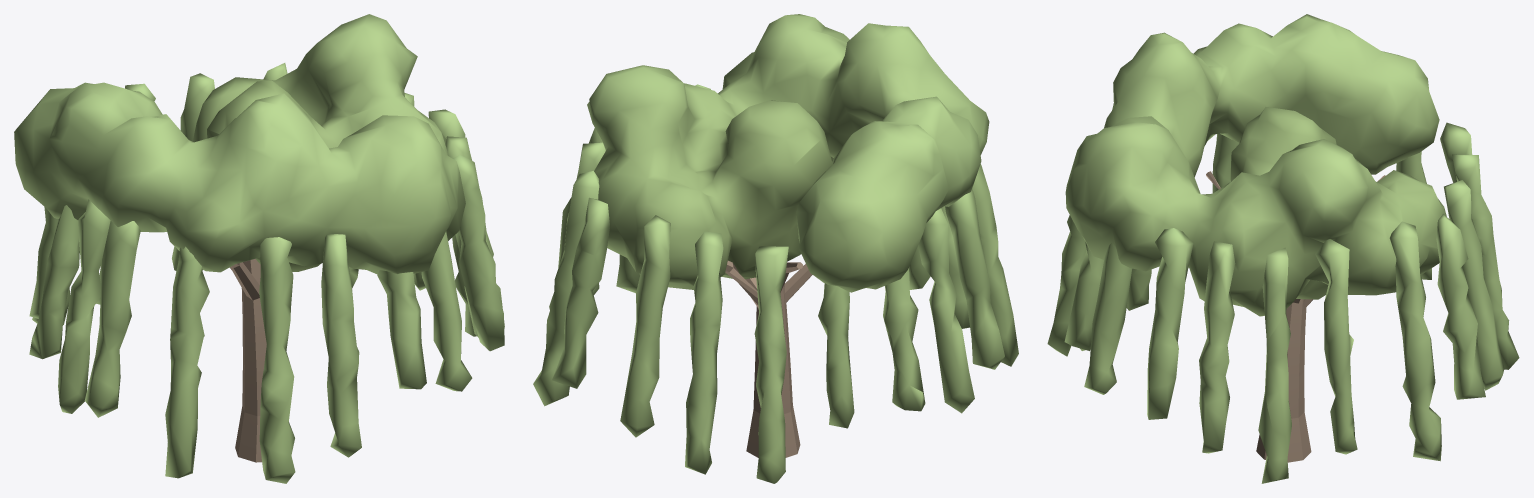
File: tree_willow.glb
3 views of the same model, side by side, from view 1: azimuth 30°, elevation 25°; view 2: azimuth 150°, elevation 25°; view 3: azimuth 270°, elevation 25° (orthographic). The views are drawn at different scales.
Parts seen in each view (by area): view 1: tree_willow; view 2: tree_willow; view 3: tree_willow.
Part boxes in pixels (x1=…): tree_willow: x1=14, y1=14, x2=504, y2=483; tree_willow: x1=533, y1=14, x2=1018, y2=483; tree_willow: x1=1047, y1=14, x2=1519, y2=483.
Size of the model in its own units: 8.88 by 8.01 by 8.84.
